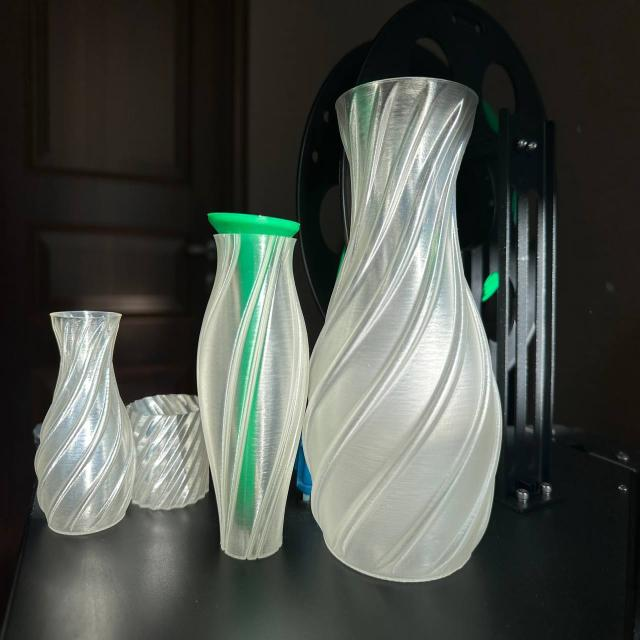Without deffect: (194, 58, 511, 587)
